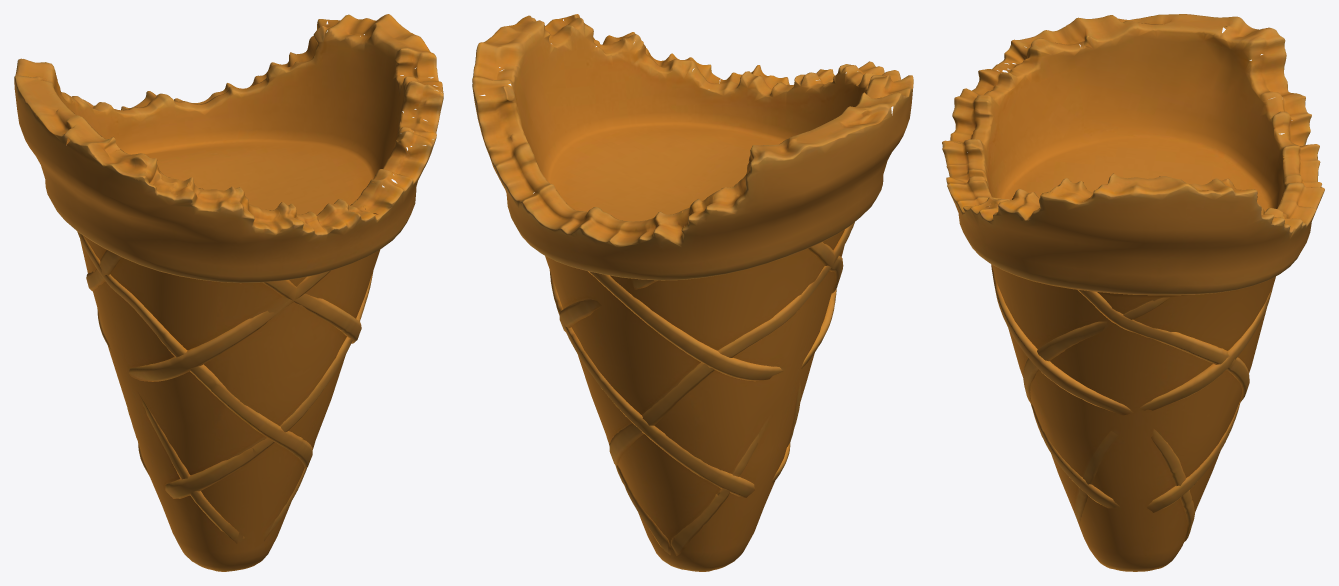
File: bunny3.glb
3 renders of one model, left to right at view 1: azimuth 30°, elevation 25°; view 2: azimuth 150°, elevation 25°; view 3: azimuth 270°, elevation 25°, orthographic. The views are drawn at different scales.
Parts seen in each view (by area): view 1: bbfe93dd_f5a2_4e0a_aaf4_c6cff6c0d8ed; view 2: bbfe93dd_f5a2_4e0a_aaf4_c6cff6c0d8ed; view 3: bbfe93dd_f5a2_4e0a_aaf4_c6cff6c0d8ed.
Part boxes in pixels (box(x1,y1,x2,y2)): bbfe93dd_f5a2_4e0a_aaf4_c6cff6c0d8ed: box(14, 14, 443, 571); bbfe93dd_f5a2_4e0a_aaf4_c6cff6c0d8ed: box(472, 14, 913, 571); bbfe93dd_f5a2_4e0a_aaf4_c6cff6c0d8ed: box(942, 14, 1324, 571).
Size of the model in its own units: 0.8052 by 0.9995 by 0.7358.
Materials: 1 (1 with a texture image).
